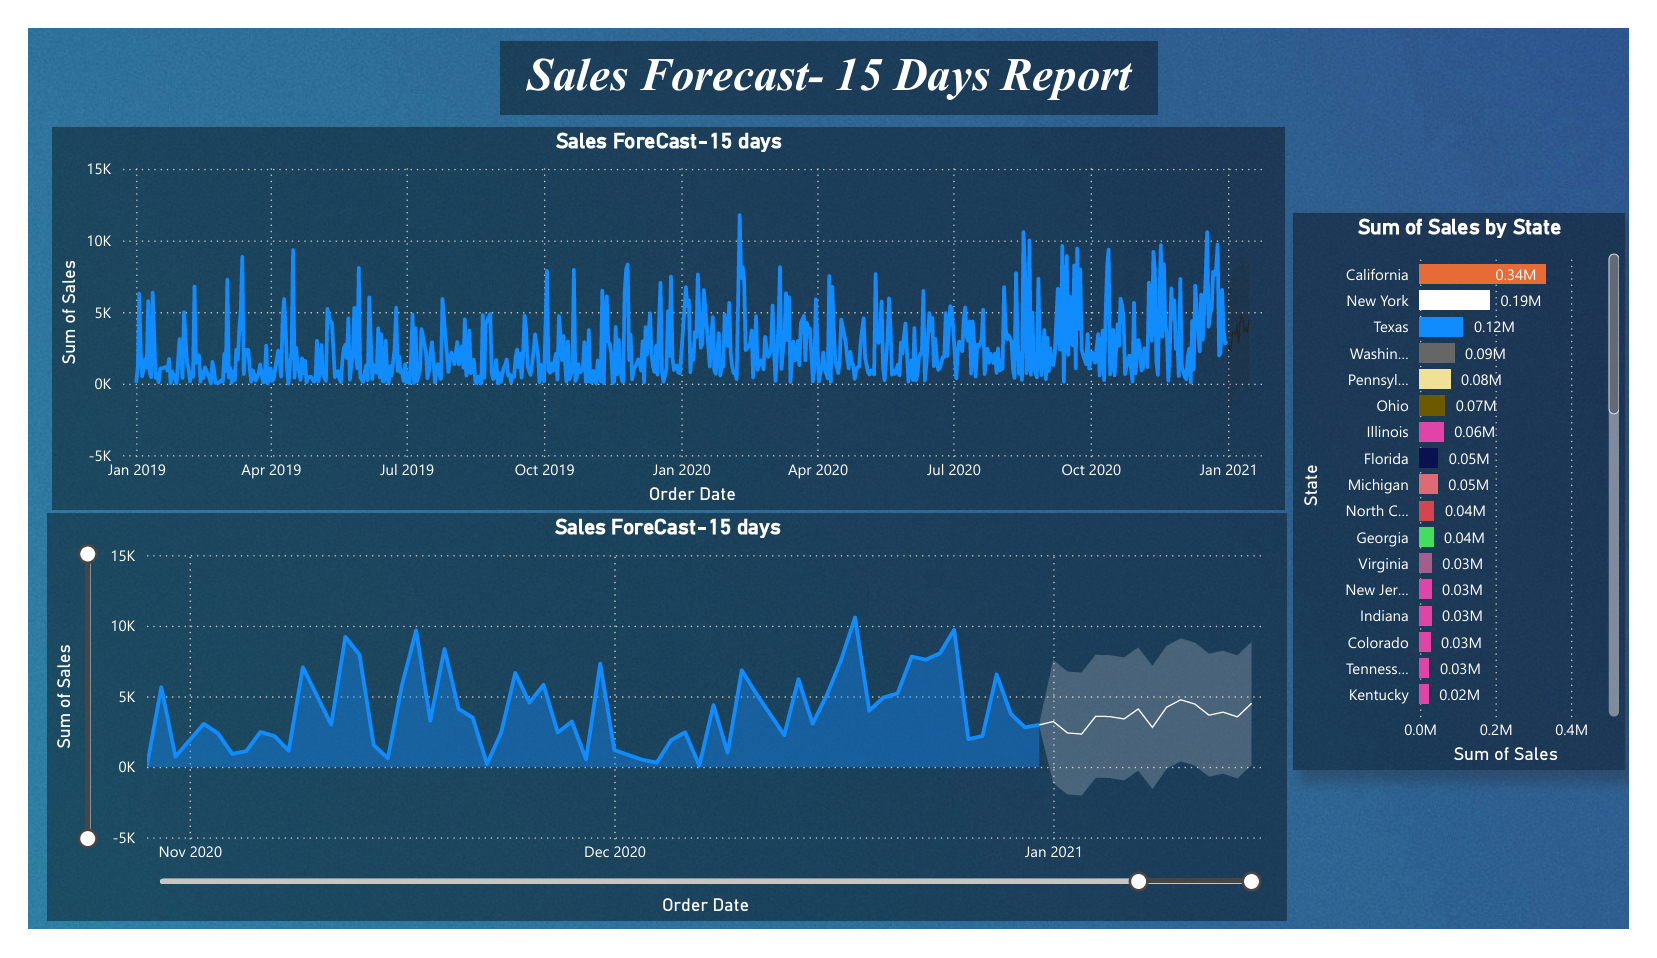

Layout of this report page (visuals, bound fields, positions):
{"tool":"powerbi","page":{"name":"Page 2","canvas":[1280,720],"ordinal":1},"visuals":[{"type":"lineChart","title":"Sales ForeCast-15 days","fields":{"Y":["Sum(SuperStore_Sales_Dataset.Sales)"],"Category":["SuperStore_Sales_Dataset.Order Date"]},"box":[18.6,79.1,986,305.8],"z":0},{"type":"textbox","box":[494.2,9.3,416.3,58.1],"z":1000},{"type":"lineChart","title":"Sales ForeCast-15 days","fields":{"Y":["Sum(SuperStore_Sales_Dataset.Sales)"],"Category":["SuperStore_Sales_Dataset.Order Date"]},"box":[12.8,394.2,991.9,325.6],"z":2000},{"type":"clusteredBarChart","fields":{"Category":["SuperStore_Sales_Dataset.State"],"Y":["Sum(SuperStore_Sales_Dataset.Sales)"]},"box":[1011.6,147.7,265.1,445.4],"z":3000}]}

Visuals, with their boxes in screenshot pixels (x1, y1, x2, y2), scaled from the page's 1280x720 canvas onto the 1657x958 screenshot:
"Sales ForeCast-15 days" lineChart: [x1=24, y1=105, x2=1300, y2=512]
textbox: [x1=640, y1=12, x2=1179, y2=90]
"Sales ForeCast-15 days" lineChart: [x1=17, y1=525, x2=1301, y2=957]
clusteredBarChart - SuperStore_Sales_Dataset.State x Sum(SuperStore_Sales_Dataset.Sales): [x1=1310, y1=197, x2=1653, y2=789]
